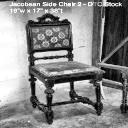chair_success: (18, 12, 108, 126)
